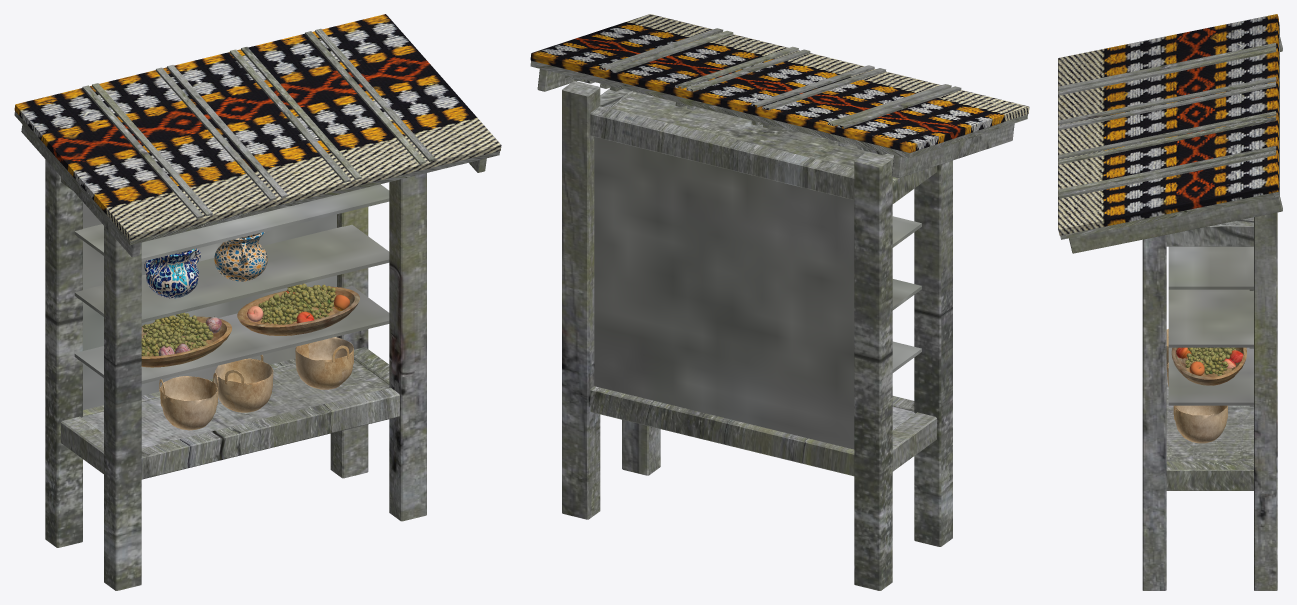
The model's file is stall4full.gltf.
The picture shows the model from 3 angles, left to right: view 1: azimuth 30°, elevation 25°; view 2: azimuth 150°, elevation 25°; view 3: azimuth 270°, elevation 25°; orthographic projection. The views are drawn at different scales.
Visible parts, largest first — view 1: stall4full; view 2: stall4full; view 3: stall4full.
Part boxes in pixels (x1,y1,x2,y2): stall4full: (14, 14, 501, 590); stall4full: (530, 14, 1029, 590); stall4full: (1058, 14, 1282, 590).
Bounding box in the file's own units: 2.03 × 2.32 × 1.12.
10 materials, 10 textured.
